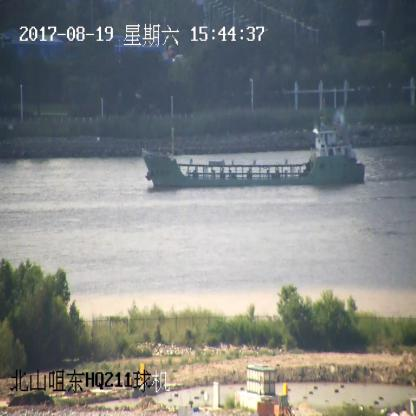Bulk Carrier: (141, 116, 366, 186)
